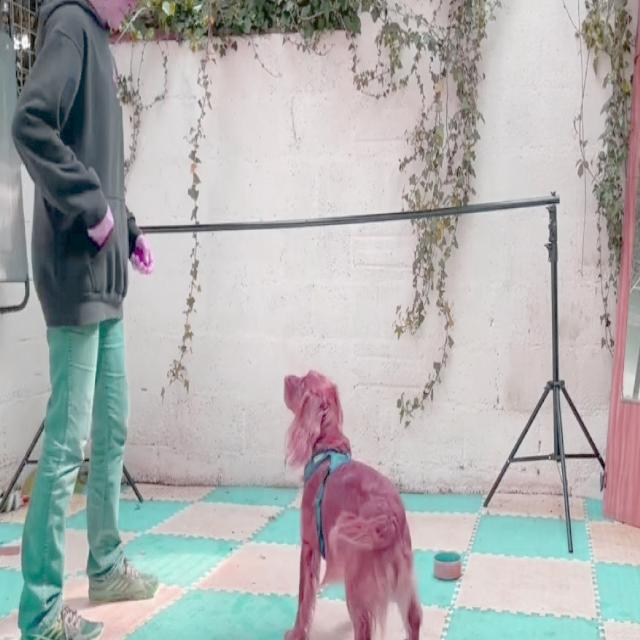Unleashed_Dog: (52, 368, 424, 640)
